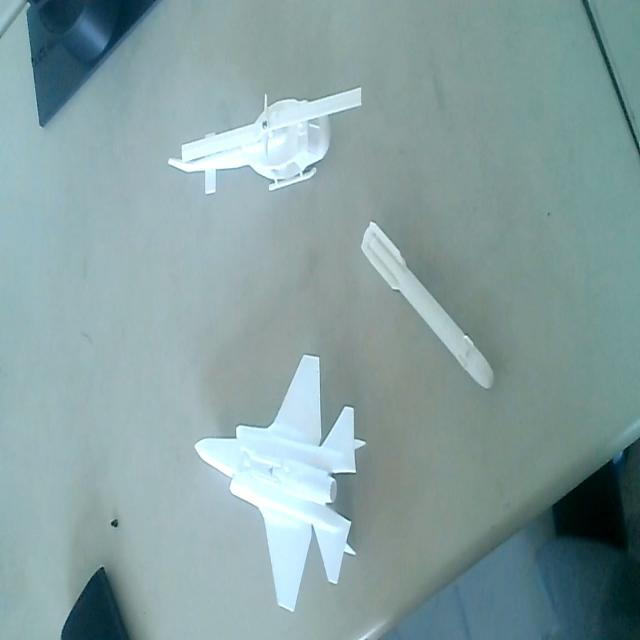Helicopter: (166, 85, 369, 199)
Jet: (193, 350, 367, 616)
Rocket: (358, 217, 496, 392)
